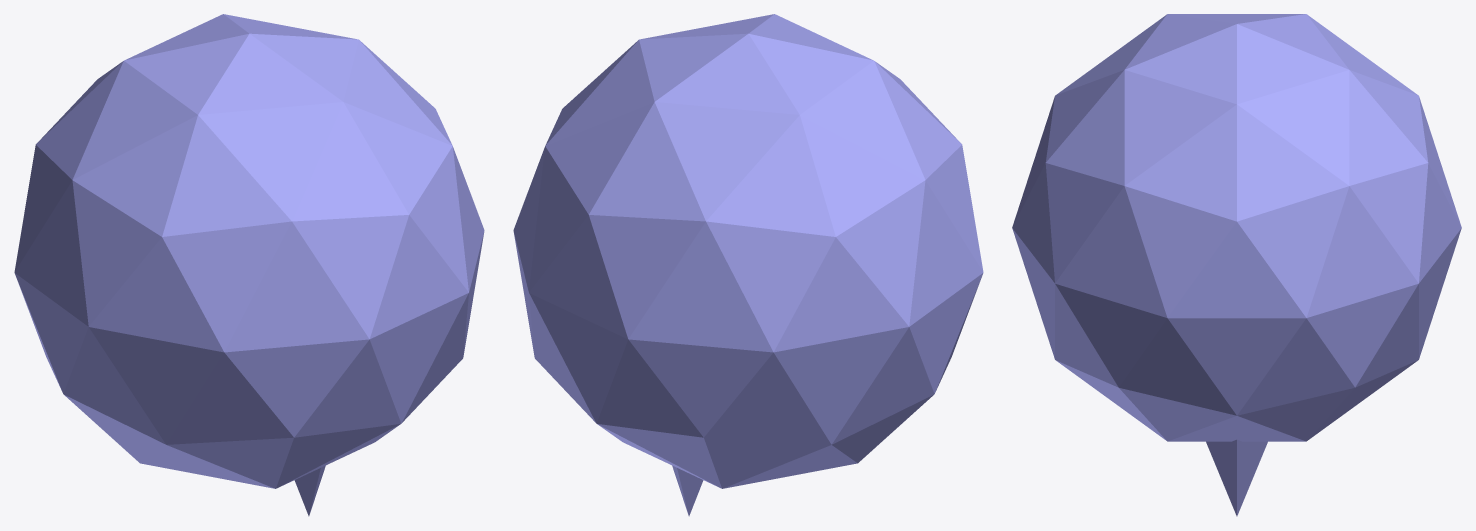
3 renders of one model, left to right at view 1: azimuth 30°, elevation 25°; view 2: azimuth 150°, elevation 25°; view 3: azimuth 270°, elevation 25°, orthographic. The views are drawn at different scales.
Visible parts, largest first — view 1: Copy, Copy_tail; view 2: Copy, Copy_tail; view 3: Copy, Copy_tail.
Boxes of the visible parts, left/top/right/bottom form: Copy: left=14, top=14, right=484, bottom=488; Copy_tail: left=294, top=465, right=325, bottom=516; Copy: left=513, top=14, right=983, bottom=488; Copy_tail: left=672, top=465, right=703, bottom=516; Copy: left=1012, top=14, right=1461, bottom=441; Copy_tail: left=1206, top=439, right=1267, bottom=516.
Size of the model in its own units: 1.33 by 1.6 by 1.4.
